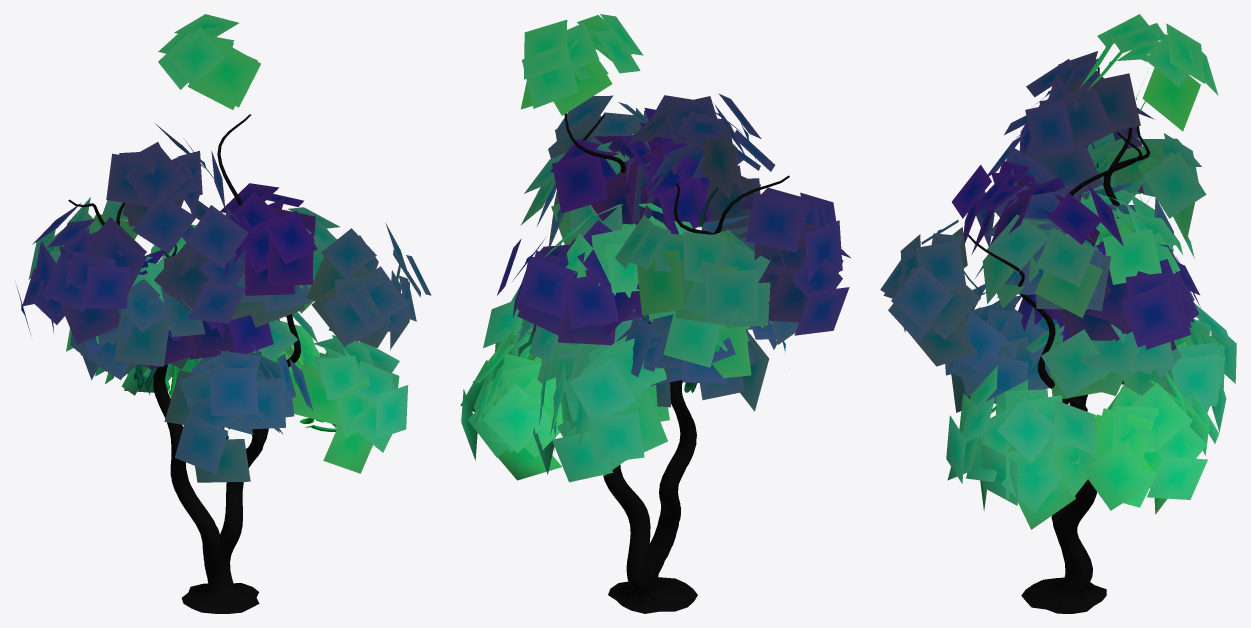
The model's file is tree_swann.fbx.
The picture shows the model from 3 angles, left to right: view 1: azimuth 30°, elevation 25°; view 2: azimuth 150°, elevation 25°; view 3: azimuth 270°, elevation 25°; orthographic projection. The views are drawn at different scales.
Visible parts, largest first — view 1: Tree_1, Tree_0; view 2: Tree_1, Tree_0; view 3: Tree_1, Tree_0.
Part boxes in pixels (x1,y1,x2,y2): Tree_1: (16,14,431,482); Tree_0: (68,114,336,613); Tree_1: (460,14,850,482); Tree_0: (564,113,789,613); Tree_1: (880,14,1236,529); Tree_0: (964,67,1152,613).
Bounding box in the file's own units: 1046 × 1585 × 870.
